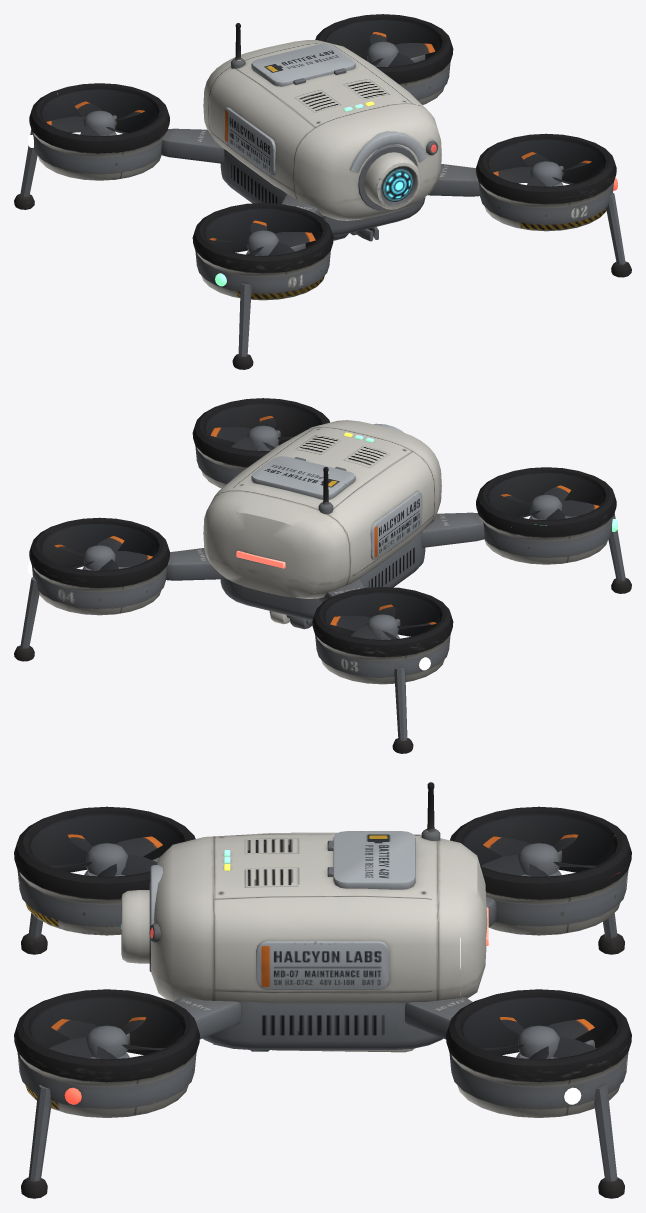
The model's file is drone.glb.
The picture shows the model from 3 angles, top to bottom: view 1: azimuth 30°, elevation 25°; view 2: azimuth 150°, elevation 25°; view 3: azimuth 270°, elevation 25°; orthographic projection. The views are drawn at different scales.
Visible parts, largest first — view 1: GEO_Body_001, GEO_FanFL_001, GEO_FanBL_001, GEO_FanFR_001, GEO_FanBR_001; view 2: GEO_Body_001, GEO_FanFL_001, GEO_FanBL_001, GEO_FanBR_001, GEO_FanFR_001; view 3: GEO_Body_001, GEO_FanBR_001, GEO_FanBL_001, GEO_FanFR_001, GEO_FanFL_001.
Part boxes in pixels (left/top/right/bottom): GEO_Body_001: left=14, top=14, right=631, bottom=369; GEO_FanFL_001: left=209, top=220, right=315, bottom=255; GEO_FanBL_001: left=46, top=101, right=144, bottom=136; GEO_FanFR_001: left=493, top=152, right=591, bottom=186; GEO_FanBR_001: left=354, top=32, right=435, bottom=66; GEO_Body_001: left=14, top=398, right=631, bottom=753; GEO_FanFL_001: left=501, top=485, right=599, bottom=520; GEO_FanBL_001: left=330, top=604, right=436, bottom=639; GEO_FanBR_001: left=54, top=536, right=152, bottom=570; GEO_FanFR_001: left=210, top=416, right=293, bottom=450; GEO_Body_001: left=14, top=782, right=631, bottom=1198; GEO_FanBR_001: left=480, top=1017, right=596, bottom=1059; GEO_FanBL_001: left=481, top=834, right=596, bottom=876; GEO_FanFR_001: left=49, top=1017, right=165, bottom=1059; GEO_FanFL_001: left=49, top=834, right=162, bottom=876.
Size of the model in its own units: 0.601 by 0.28 by 0.601.
1 material, 1 textured.
